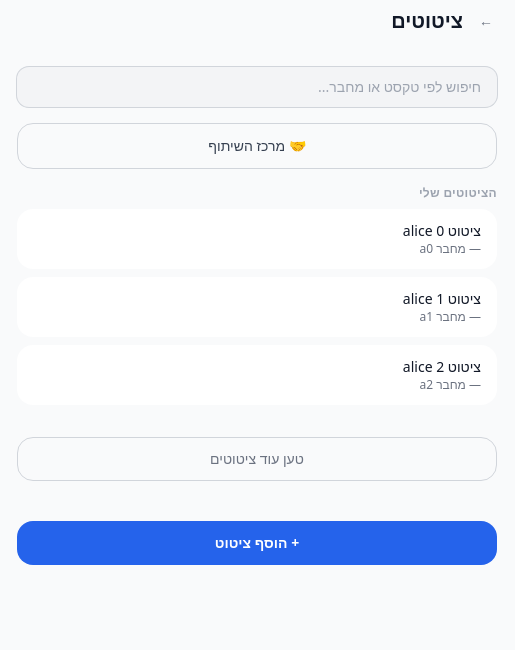
Test: Citations Sections by Creator › resets each section back to showing 3 items when search query changes
The image size is (515, 650).
Expected: the heading "הציטוטים שלי" is shown, [419,184,497,201]
Load more to see all 5
Click the button "טען עוד ציטוטים" at coordinates (257, 459), box [17,437,497,481]
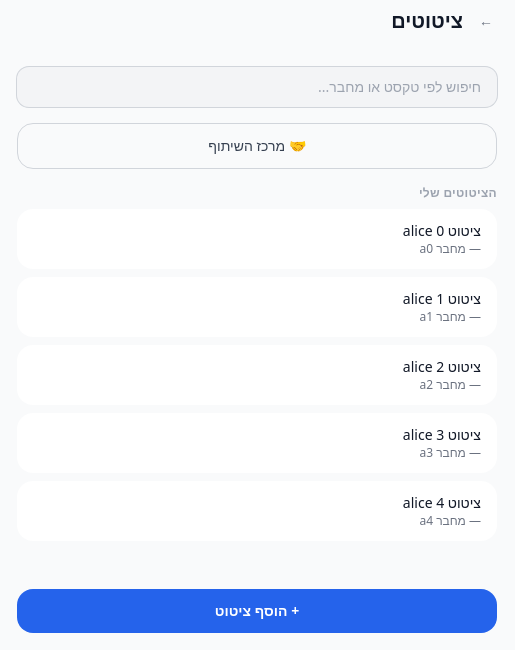
Result: the text "ציטוט alice 4" is shown at [403,493,481,512]
Now type a search — section should reset to 3 visible
Type "ציטוט" into the field with placeholder "חיפוש לפי טקסט או מחבר..." at coordinates (257, 87), box [17,67,497,107]
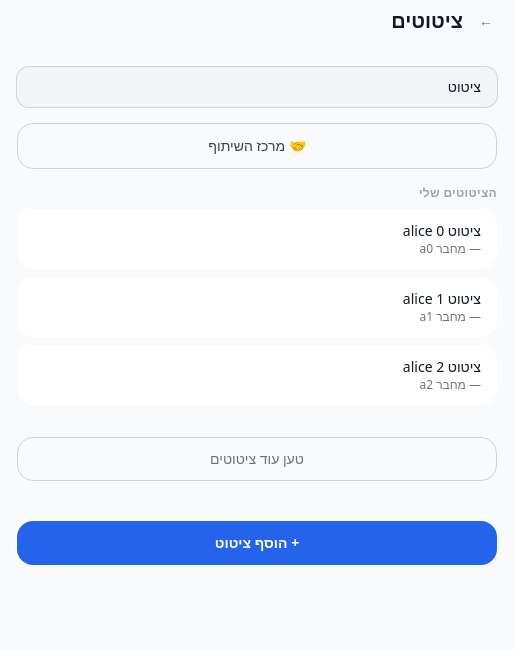
Expected: the text "ציטוט alice 0" is shown, [403,221,481,240]
Result: the button "ציטוט alice 3" is gone
Result: the button "ציטוט alice 4" is gone
